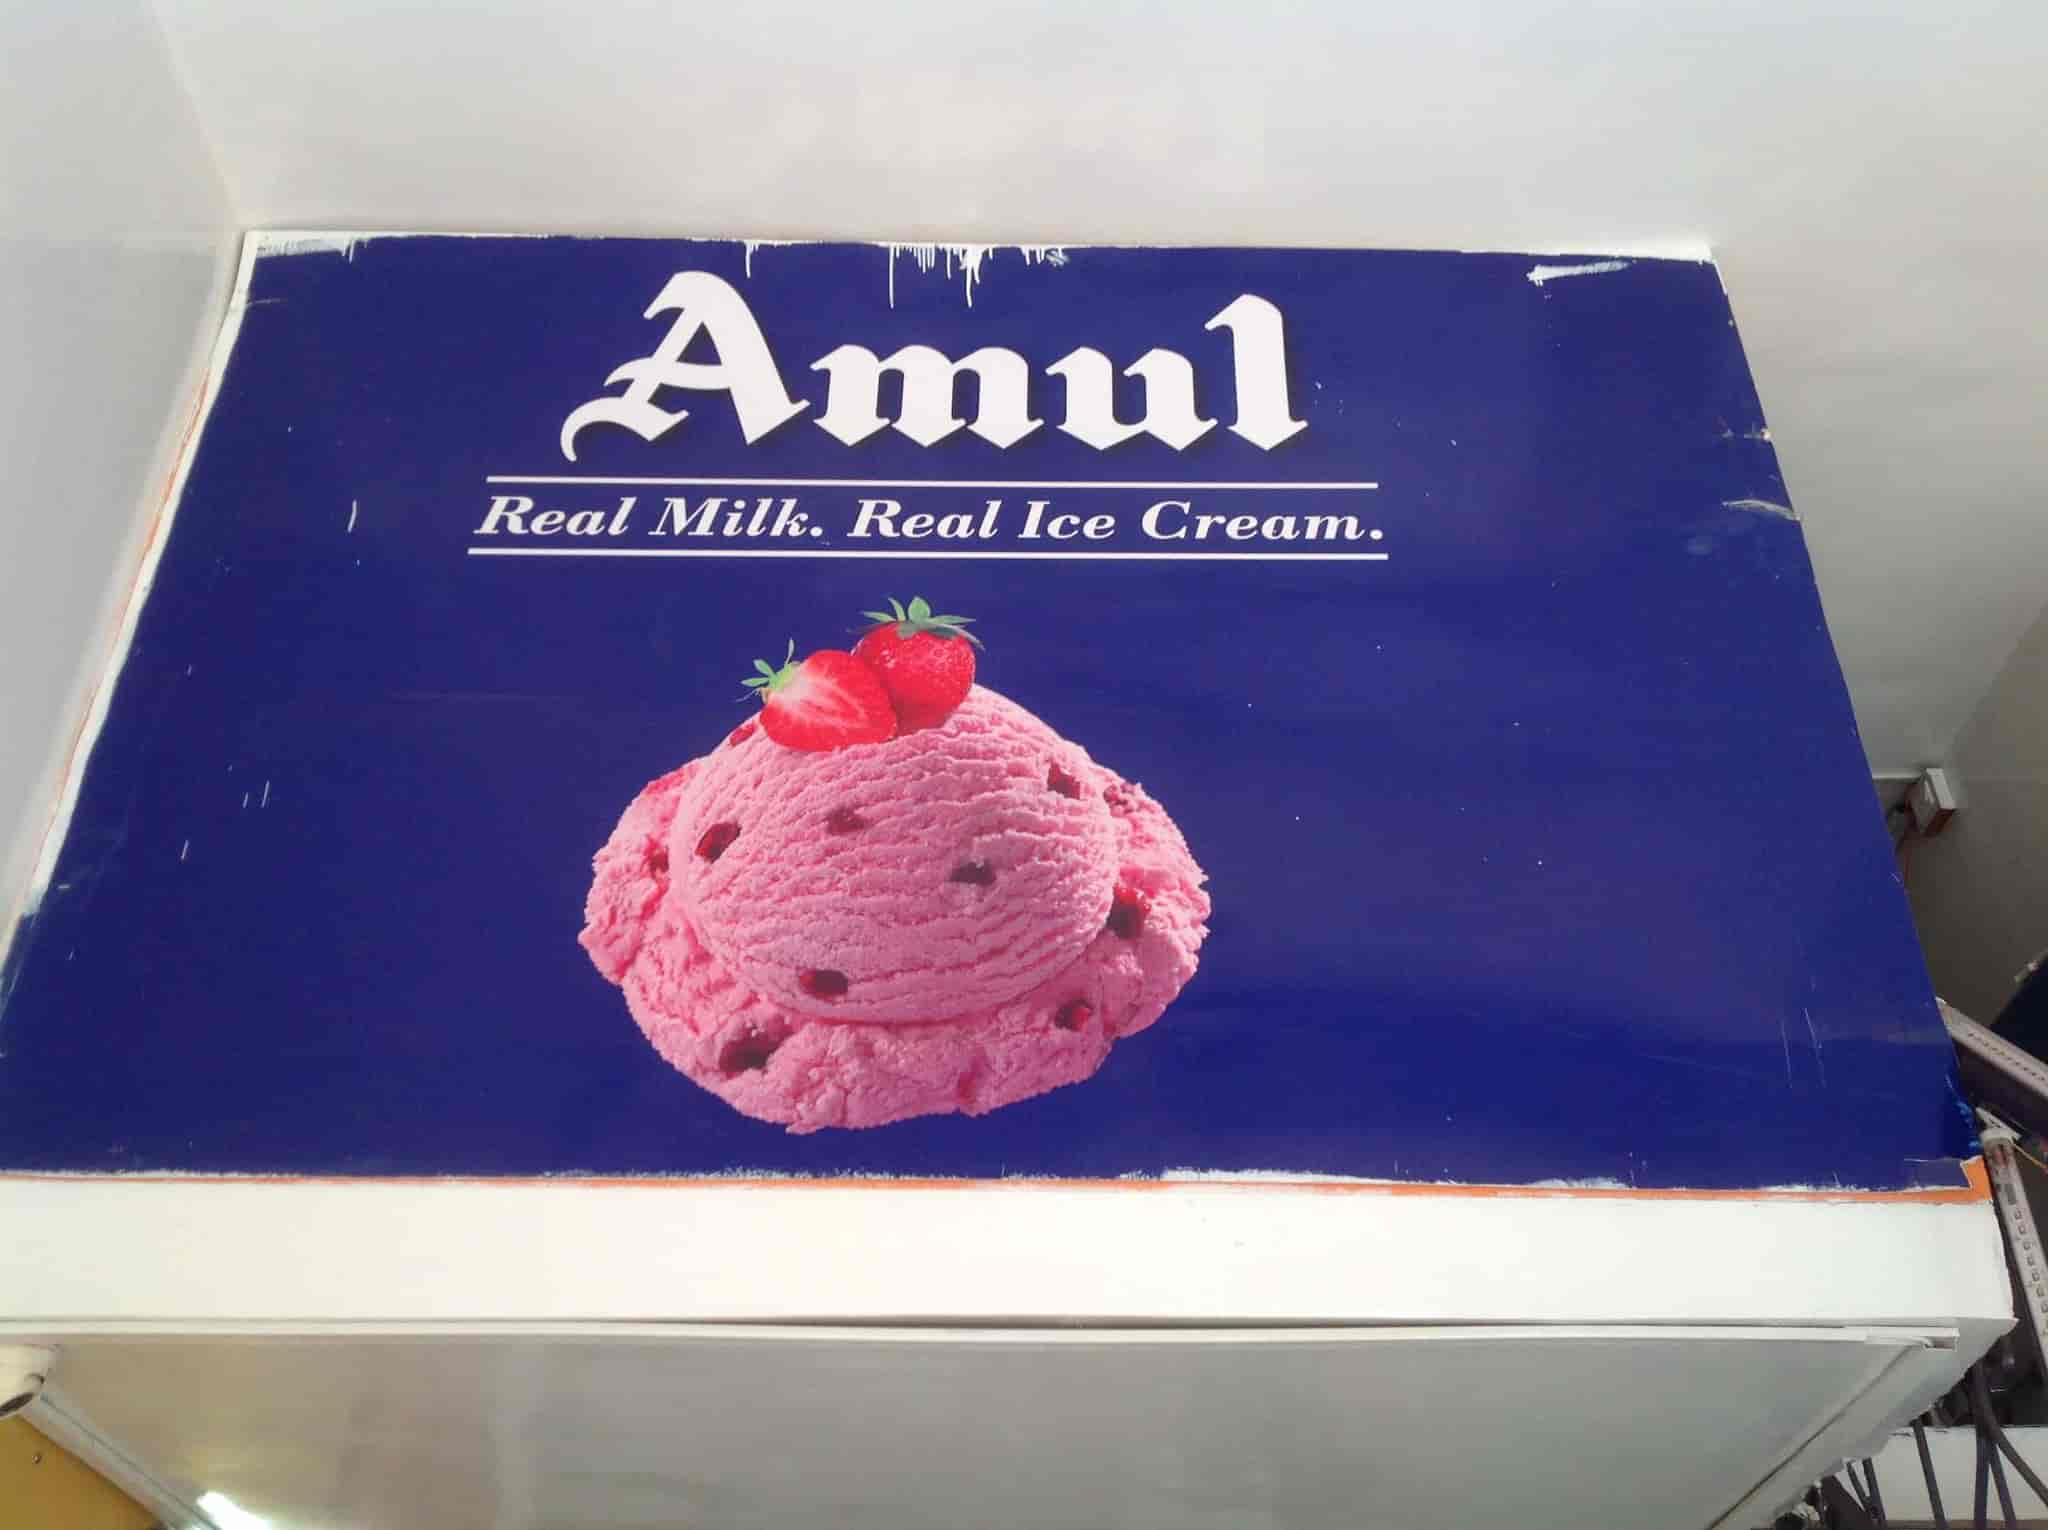Amul: (547, 268, 1334, 458)
